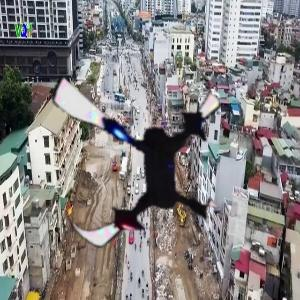drone: (29, 46, 245, 262)
